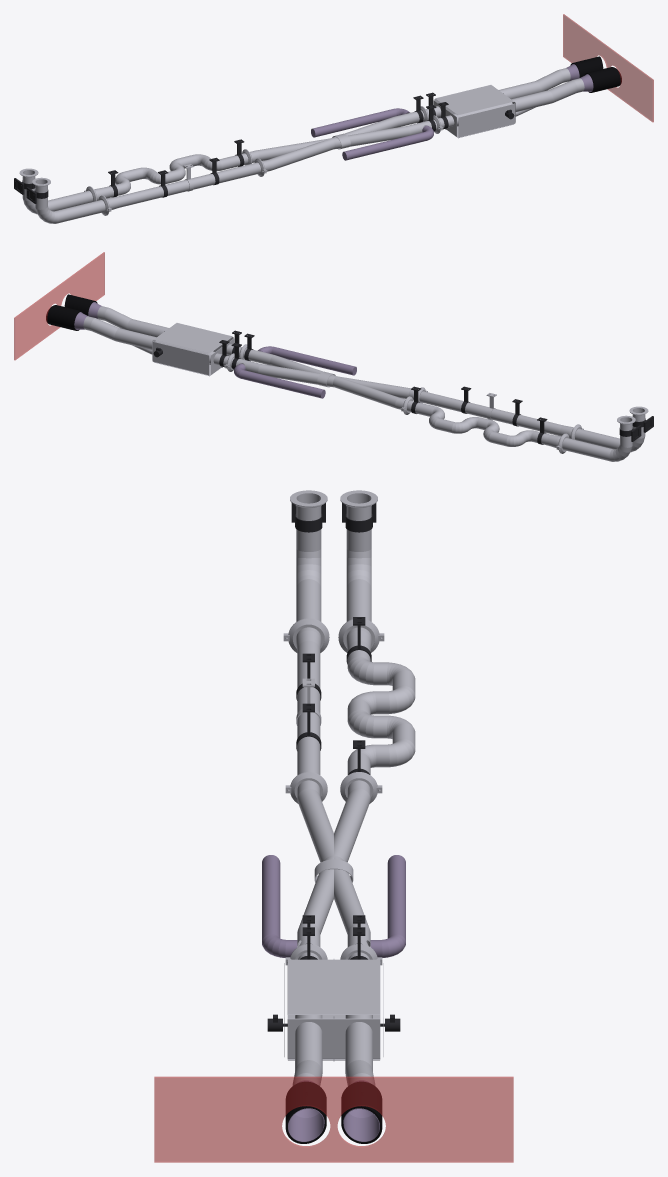
The model's file is assembly_S58_2tips.glb.
3 renders of one model, top to bottom at view 1: azimuth 30°, elevation 25°; view 2: azimuth 150°, elevation 25°; view 3: azimuth 270°, elevation 25°, orthographic. The views are drawn at different scales.
Visible parts, largest first — view 1: xpipe, REF_diffuser_placeholder, muffler_body, midpipe_B1_loop, midpipe_B2_straight, downpipe_B2, ycollector_B2side, downpipe_B1, jpipe_B2side, jpipe_B1side, ycollector_B1side, tip_cf_B2 (+1 smaller); view 2: xpipe, REF_diffuser_placeholder, muffler_body, midpipe_B1_loop, midpipe_B2_straight, downpipe_B1, ycollector_B1side, downpipe_B2, jpipe_B1side, jpipe_B2side, ycollector_B2side, tip_cf_B1 (+1 smaller); view 3: REF_diffuser_placeholder, muffler_body, xpipe, midpipe_B1_loop, midpipe_B2_straight, downpipe_B2, downpipe_B1, jpipe_B1side, jpipe_B2side, ycollector_B1side, ycollector_B2side, tip_cf_B1 (+3 smaller).
Part boxes in pixels (left/top/right/bottom): xpipe: left=249, top=109, right=437, bottom=171; REF_diffuser_placeholder: left=563, top=14, right=653, bottom=122; muffler_body: left=433, top=85, right=515, bottom=138; midpipe_B1_loop: left=94, top=152, right=248, bottom=200; midpipe_B2_straight: left=107, top=161, right=261, bottom=209; downpipe_B2: left=32, top=177, right=106, bottom=223; ycollector_B2side: left=511, top=78, right=584, bottom=116; downpipe_B1: left=19, top=168, right=93, bottom=214; jpipe_B2side: left=342, top=125, right=433, bottom=160; jpipe_B1side: left=311, top=108, right=409, bottom=137; ycollector_B1side: left=499, top=68, right=570, bottom=99; tip_cf_B2: left=584, top=67, right=621, bottom=92; xpipe: left=230, top=347, right=413, bottom=409; REF_diffuser_placeholder: left=14, top=252, right=104, bottom=360; muffler_body: left=152, top=323, right=234, bottom=376; midpipe_B1_loop: left=406, top=399, right=560, bottom=447; midpipe_B2_straight: left=419, top=390, right=573, bottom=438; downpipe_B1: left=561, top=415, right=635, bottom=461; ycollector_B1side: left=83, top=316, right=156, bottom=354; downpipe_B2: left=574, top=406, right=648, bottom=452; jpipe_B1side: left=234, top=363, right=325, bottom=398; jpipe_B2side: left=258, top=346, right=356, bottom=375; ycollector_B2side: left=97, top=306, right=168, bottom=337; tip_cf_B1: left=46, top=305, right=83, bottom=330; REF_diffuser_placeholder: left=154, top=1076, right=513, bottom=1162; muffler_body: left=284, top=959, right=383, bottom=1061; xpipe: left=294, top=778, right=373, bottom=946; midpipe_B1_loop: left=343, top=625, right=415, bottom=774; midpipe_B2_straight: left=293, top=624, right=324, bottom=774; downpipe_B2: left=290, top=490, right=327, bottom=621; downpipe_B1: left=340, top=490, right=377, bottom=621; jpipe_B1side: left=370, top=855, right=405, bottom=957; jpipe_B2side: left=262, top=855, right=297, bottom=957; ycollector_B1side: left=345, top=1022, right=374, bottom=1085; ycollector_B2side: left=293, top=1022, right=322, bottom=1085; tip_cf_B1: left=341, top=1082, right=382, bottom=1143.
Bounding box in the file's own units: 3759 × 325 × 1000.
